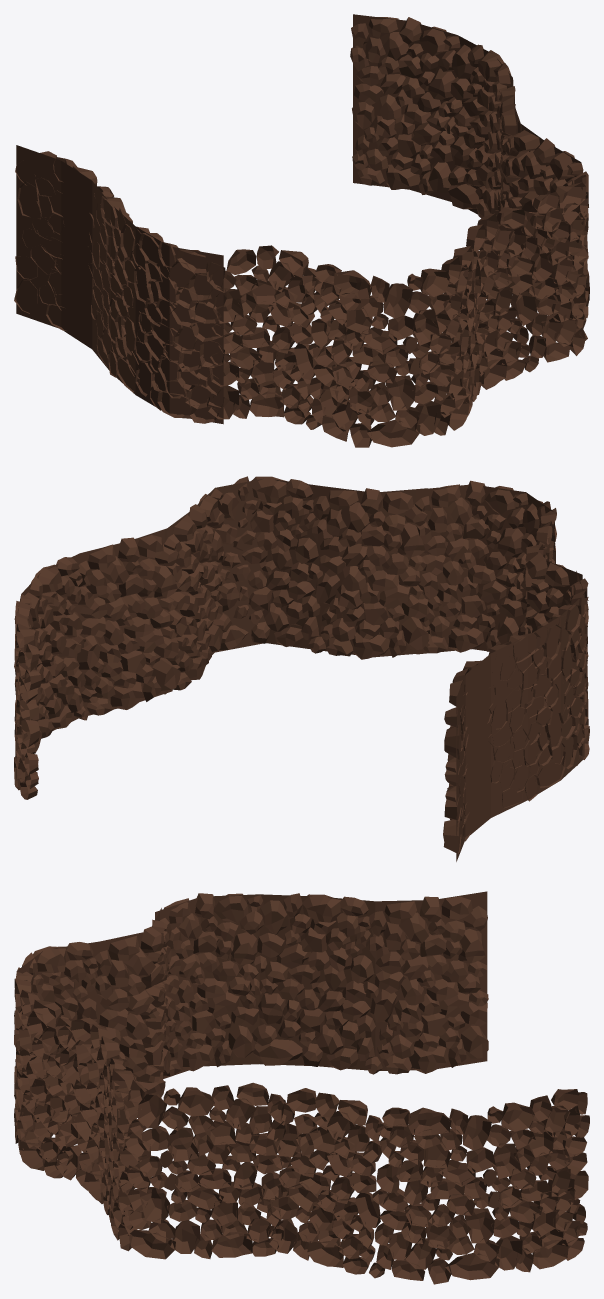
Rendered from Mapa.fbx.
3 renders of one model, top to bottom at view 1: azimuth 30°, elevation 25°; view 2: azimuth 150°, elevation 25°; view 3: azimuth 270°, elevation 25°, orthographic. The views are drawn at different scales.
Visible parts, largest first — view 1: Cube.003; view 2: Cube.003; view 3: Cube.003.
Part boxes in pixels (bbox=[...]): Cube.003: bbox=[14, 14, 589, 447]; Cube.003: bbox=[14, 476, 589, 861]; Cube.003: bbox=[14, 891, 589, 1284].
Size of the model in its own units: 2132 by 778 by 2324.
